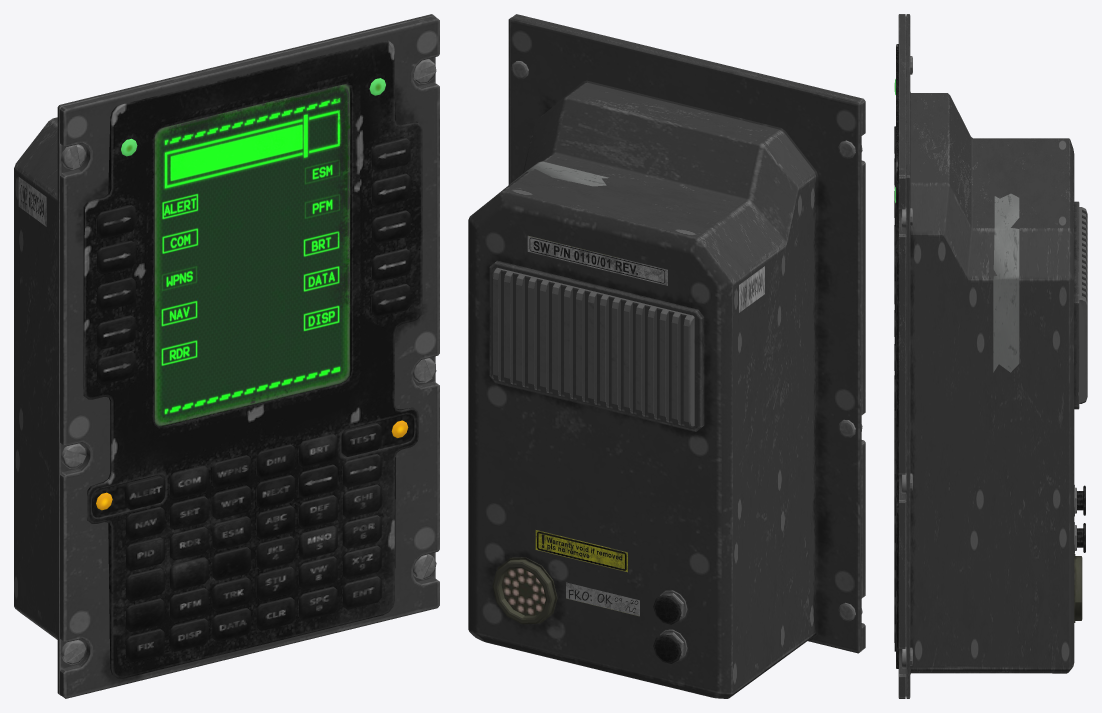
The model's file is ip_cdu.glb.
The picture shows the model from 3 angles, left to right: view 1: azimuth 30°, elevation 25°; view 2: azimuth 150°, elevation 25°; view 3: azimuth 270°, elevation 25°; orthographic projection. The views are drawn at different scales.
Visible parts, largest first — view 1: O_ip_cdu__Body, O_ip_cdu__Body2; view 2: O_ip_cdu__Body; view 3: O_ip_cdu__Body.
Boxes of the visible parts, x1,y1,x2,y2 form: O_ip_cdu__Body: (14,14,439,698); O_ip_cdu__Body2: (154,84,350,426); O_ip_cdu__Body: (468,14,865,698); O_ip_cdu__Body: (894,14,1087,698).
Size of the model in its own units: 0.4479 by 0.6708 by 0.2247.
2 materials, 2 textured.
